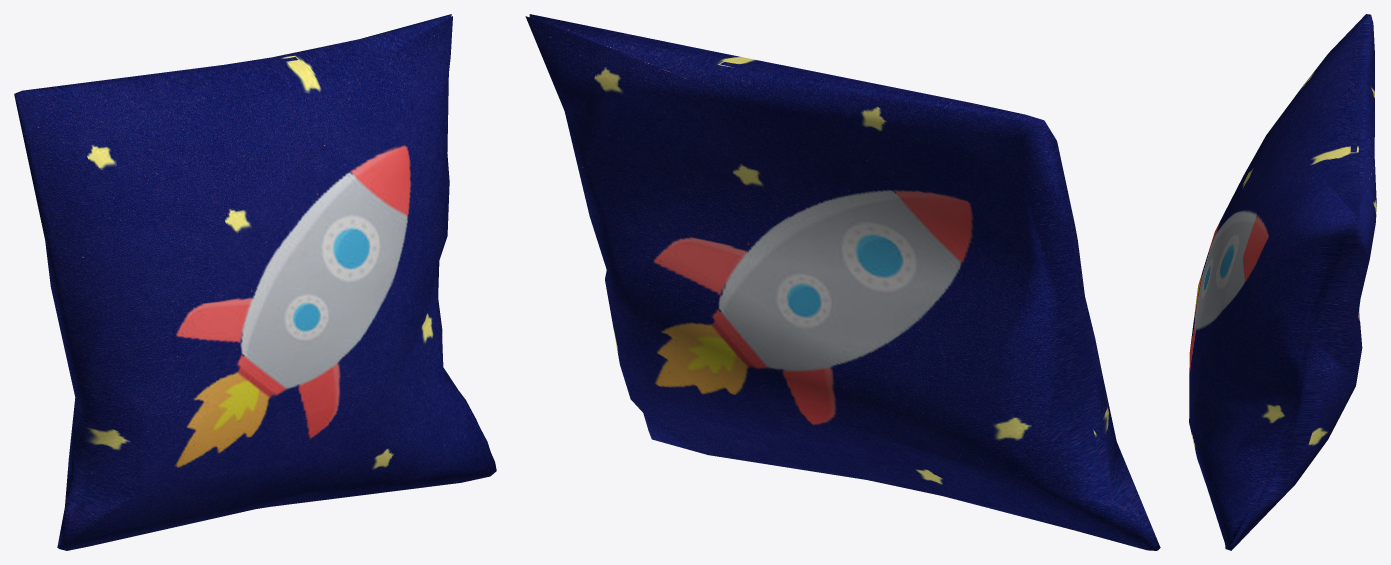
Rendered from Pillow 2.FBX.
3 views of the same model, side by side, from view 1: azimuth 30°, elevation 25°; view 2: azimuth 150°, elevation 25°; view 3: azimuth 270°, elevation 25° (orthographic). The views are drawn at different scales.
Visible parts, largest first — view 1: Pillow 2; view 2: Pillow 2; view 3: Pillow 2.
Part boxes in pixels (bbox=[...]): Pillow 2: bbox=[14, 14, 496, 550]; Pillow 2: bbox=[525, 14, 1160, 550]; Pillow 2: bbox=[1189, 14, 1376, 550].
Size of the model in its own units: 37.18 by 32.54 by 15.06.
Materials: 1 (1 with a texture image).
